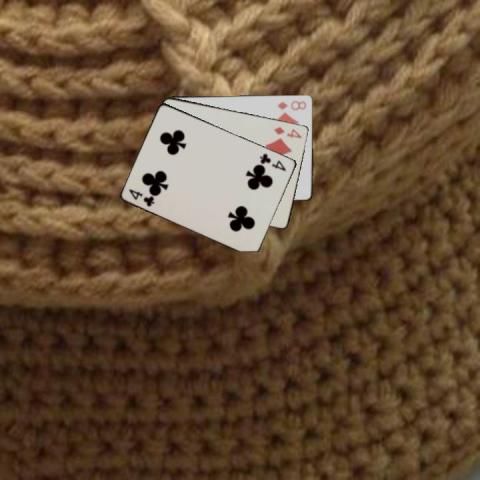4c: (257, 150, 288, 173), (126, 186, 156, 208)
4d: (272, 124, 304, 140)
8d: (275, 98, 308, 112)
